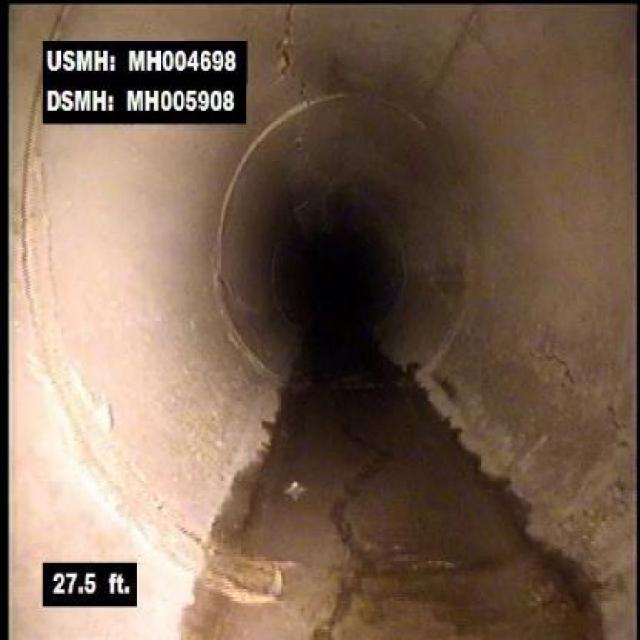Crack: (305, 460, 380, 635), (526, 338, 600, 404), (266, 10, 303, 84)
